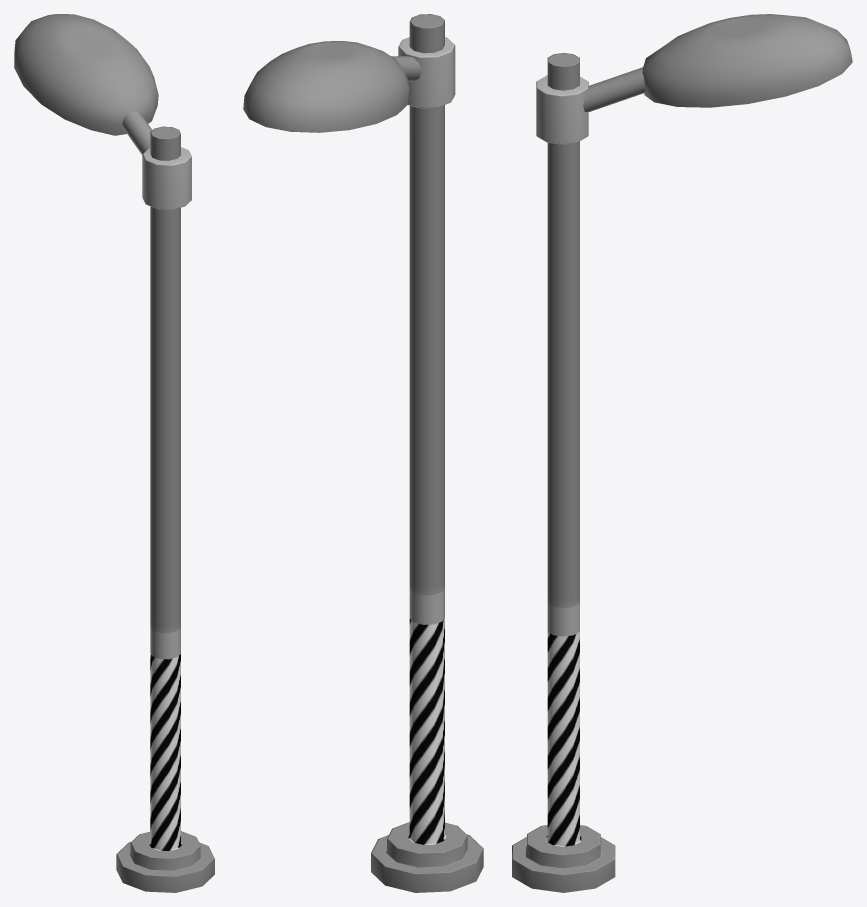
3 views of the same model, side by side, from view 1: azimuth 30°, elevation 25°; view 2: azimuth 150°, elevation 25°; view 3: azimuth 270°, elevation 25° (orthographic). The views are drawn at different scales.
Parts seen in each view (by area): view 1: SM_Cylinder_01; view 2: SM_Cylinder_01; view 3: SM_Cylinder_01.
Boxes of the visible parts, box(x1,y1,x2,y2) form: SM_Cylinder_01: box(14, 14, 214, 892); SM_Cylinder_01: box(243, 14, 483, 892); SM_Cylinder_01: box(512, 14, 852, 892).
Bounding box in the file's own units: 59.92 × 151 × 414.
